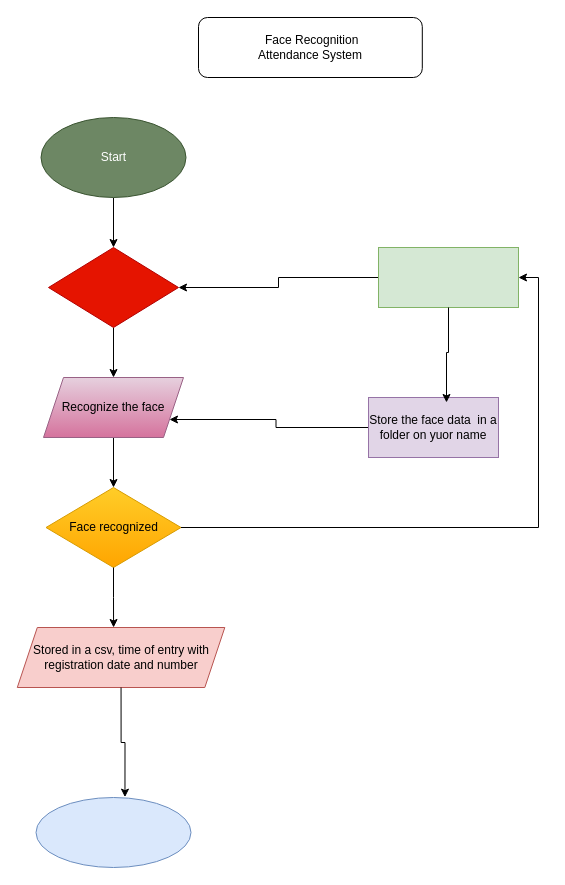
This 565x885 diagram has some shape labels left out. The shapes that lost their labels are listed below. From the top down, each one's centre as x and y in pixels, then its label:
At pixel 113 287: "New user".
At pixel 448 277: "Give your photography".
At pixel 113 832: "End".
